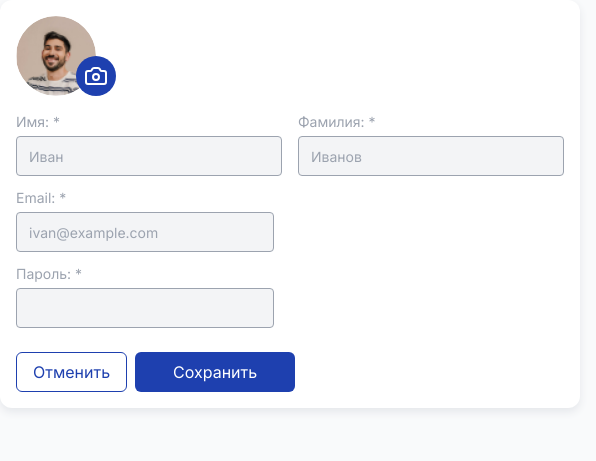
ProfileEditPage › requires a password and sends it when updating the profile
Click the button "Сохранить" at (215, 372), box 135,352 -> 295,392
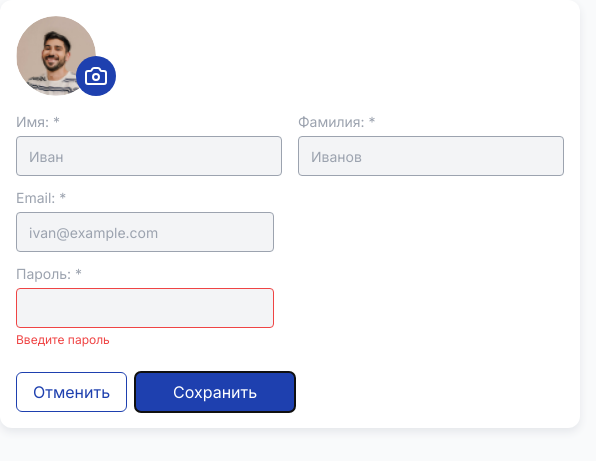
Check: the text "Введите пароль" is shown, box 16,332 -> 110,347
Type "new-password" into the password field labelled "Пароль" at (145, 308), box 16,288 -> 274,328
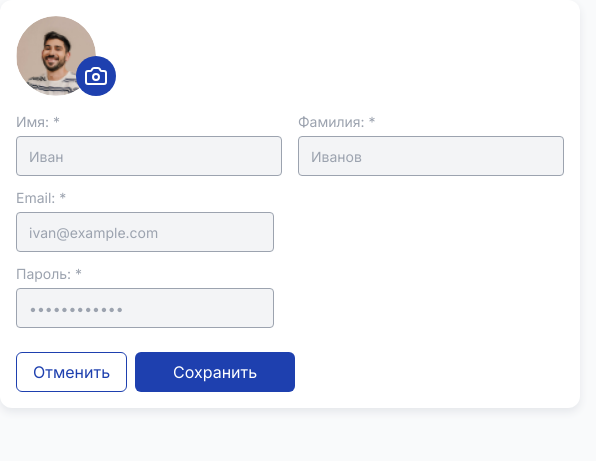
Click the button "Сохранить" at (215, 372), box 135,352 -> 295,392
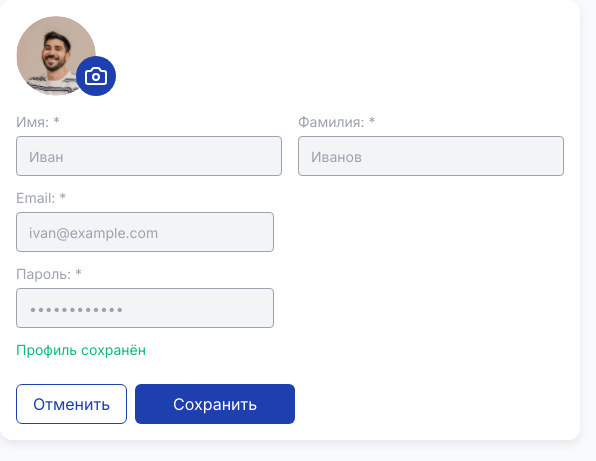
Check: the text "Профиль сохранён" is shown, box 16,341 -> 146,358
